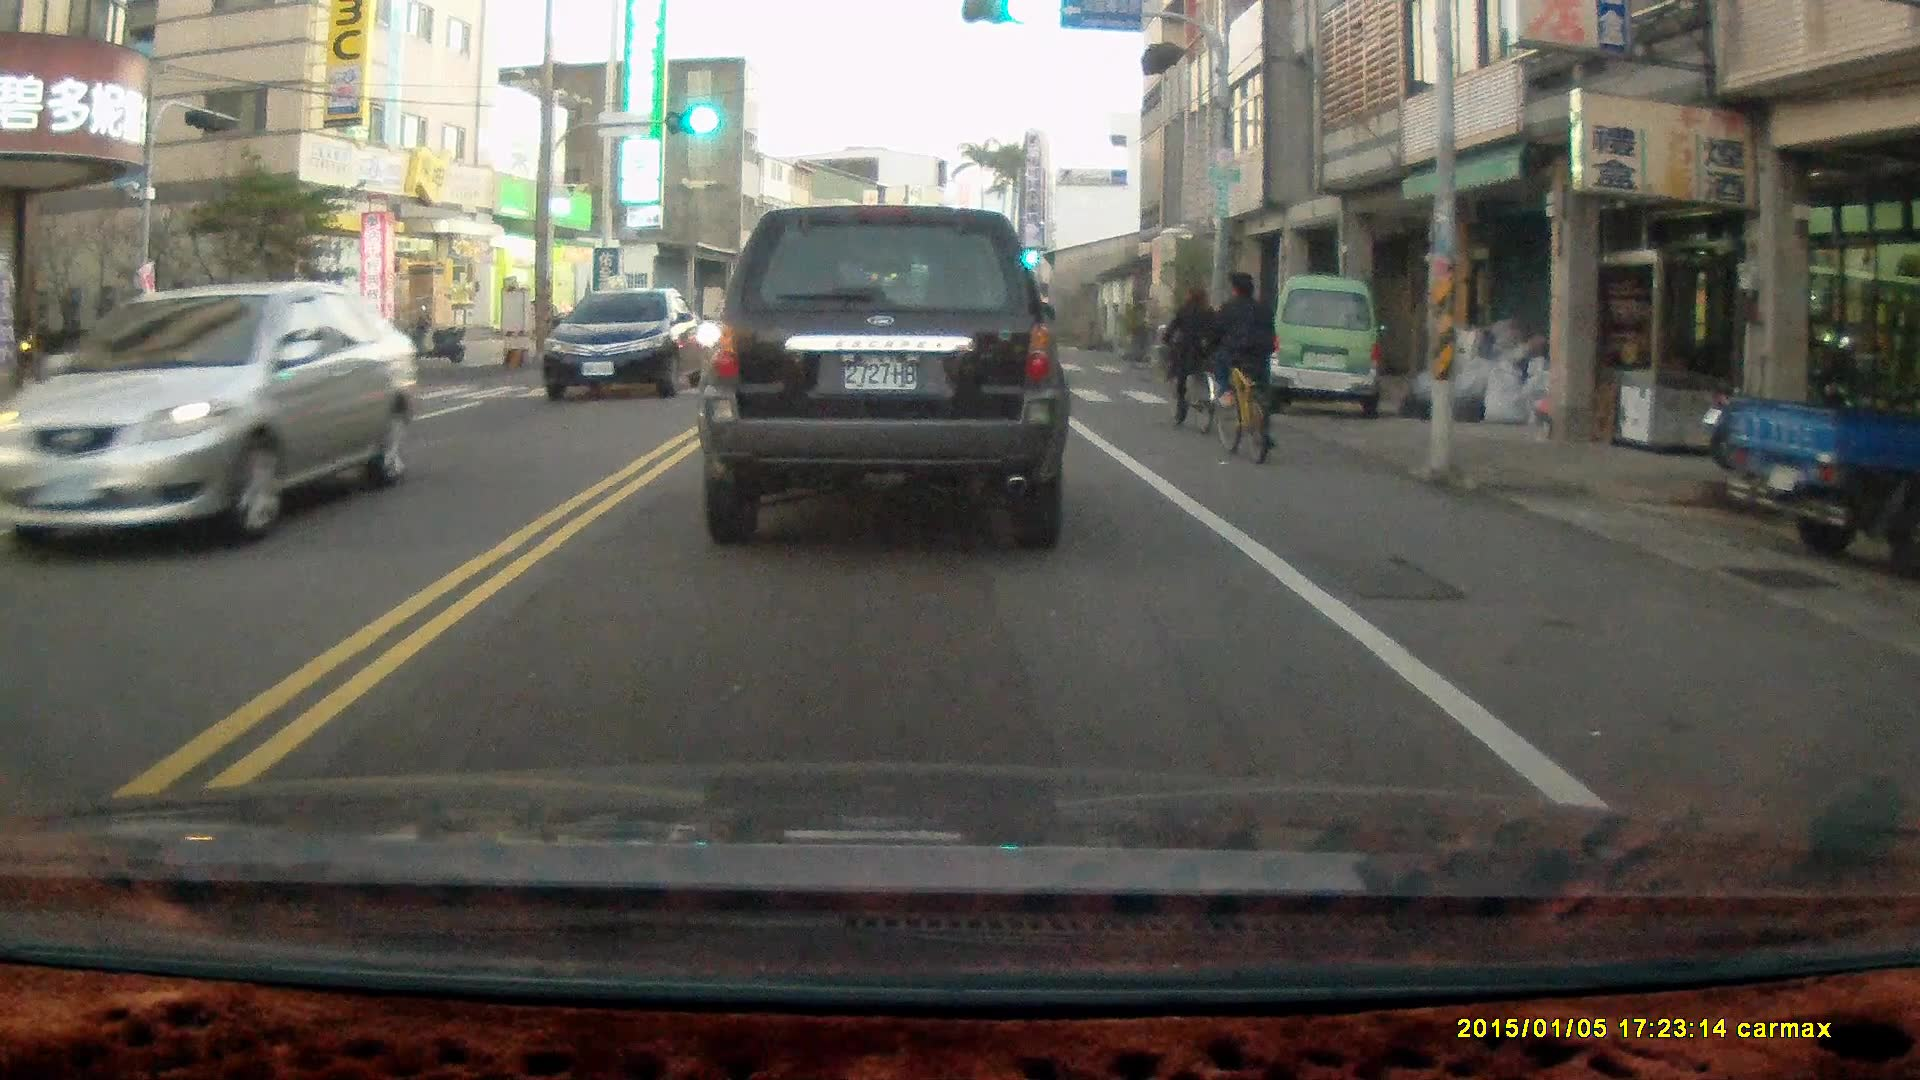rider: (1198, 266, 1274, 462), (1155, 278, 1220, 436)
vehicle: (701, 201, 1071, 544), (1, 284, 424, 557), (541, 285, 708, 406), (1268, 273, 1385, 422)
